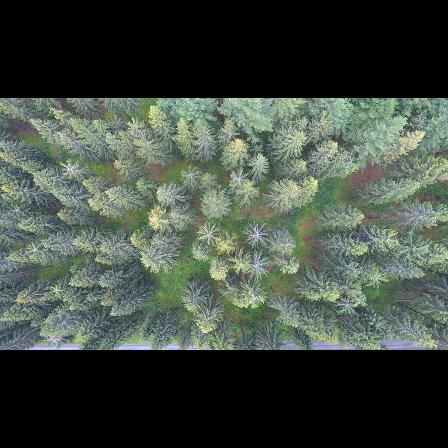Sick: (243, 249, 270, 279), (331, 289, 363, 314), (194, 220, 225, 245), (242, 220, 270, 247), (226, 166, 251, 189), (57, 158, 81, 178), (178, 165, 202, 183)
